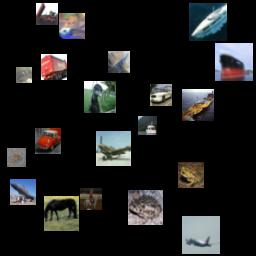airplane: (182, 216, 220, 254), (96, 131, 131, 166), (10, 179, 36, 205), (108, 51, 130, 73)
automobile: (35, 128, 61, 154), (150, 84, 172, 106)
bird: (84, 81, 116, 113), (59, 13, 85, 39)
frog: (128, 190, 163, 225), (178, 162, 204, 188), (7, 148, 26, 167), (16, 67, 32, 83)
ship: (189, 3, 227, 41), (215, 43, 253, 81), (182, 89, 214, 121), (138, 116, 157, 135)
truck: (41, 54, 67, 80), (36, 3, 58, 25)
